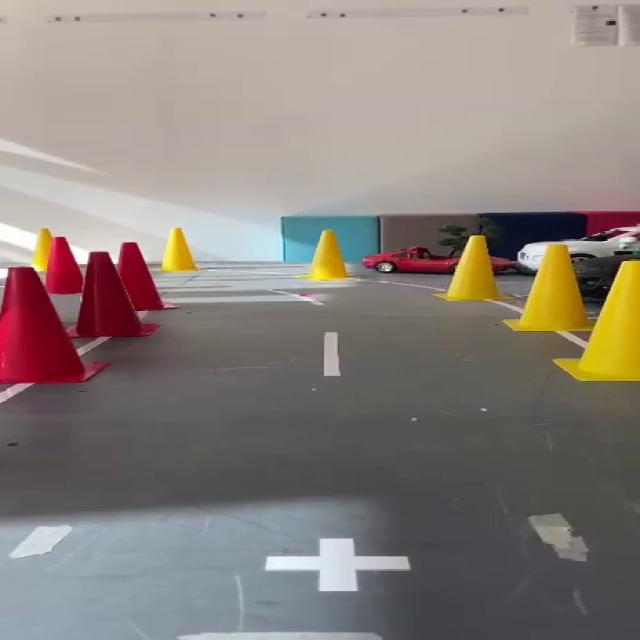Cone-red: (0, 267, 108, 383), (46, 237, 154, 338), (117, 242, 164, 309)
Cones-yellow: (553, 260, 639, 381), (503, 243, 590, 331), (437, 235, 503, 300), (302, 230, 346, 279), (161, 228, 196, 270), (33, 229, 51, 269)
